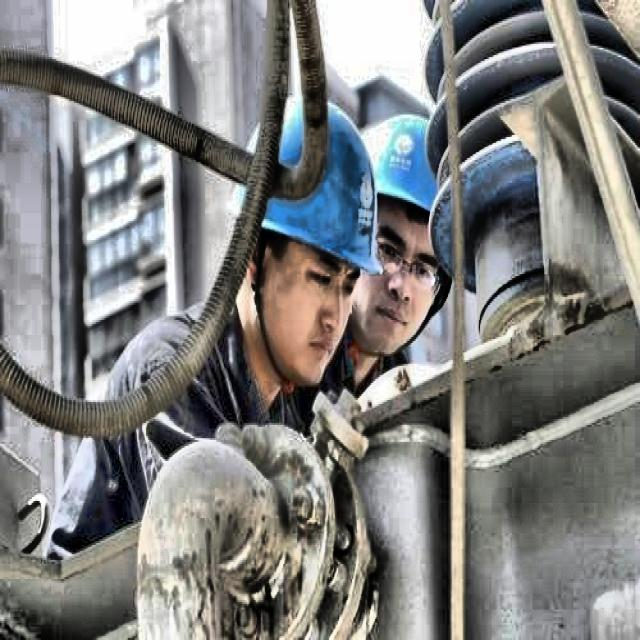helmet: (253, 99, 383, 398), (355, 84, 439, 345)
